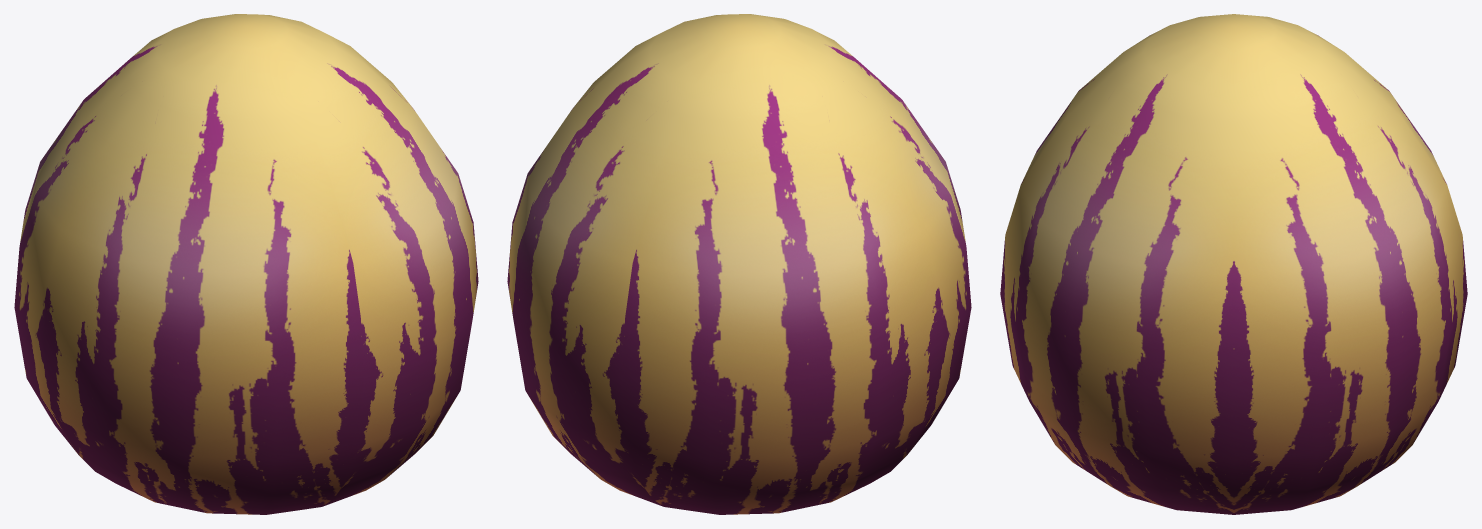
The model's file is Pepino.fbx.
3 views of the same model, side by side, from view 1: azimuth 30°, elevation 25°; view 2: azimuth 150°, elevation 25°; view 3: azimuth 270°, elevation 25° (orthographic).
Parts seen in each view (by area): view 1: Pepino; view 2: Pepino; view 3: Pepino.
Boxes of the visible parts, x1=… form: Pepino: x1=14, y1=14, x2=478, y2=514; Pepino: x1=507, y1=14, x2=971, y2=514; Pepino: x1=1000, y1=14, x2=1467, y2=514.
Size of the model in its own units: 35.17 by 36.34 by 35.17.
